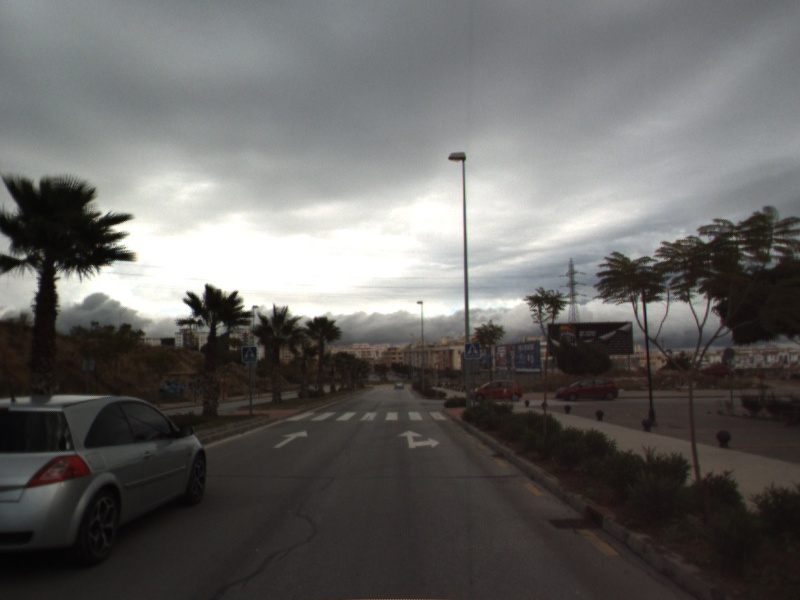STRAIGHT: (271, 428, 309, 450)
STRAIGHT_RIGHT: (396, 428, 441, 450)
